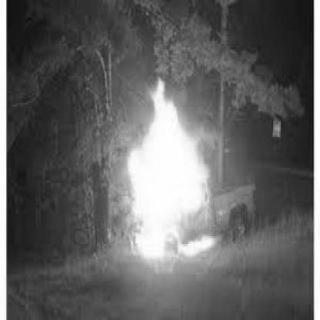Fire: (118, 82, 220, 262)
